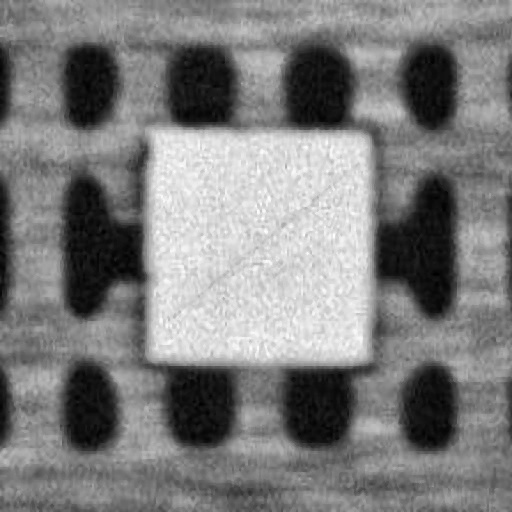DIE_CRACK: (235, 107, 512, 216)
